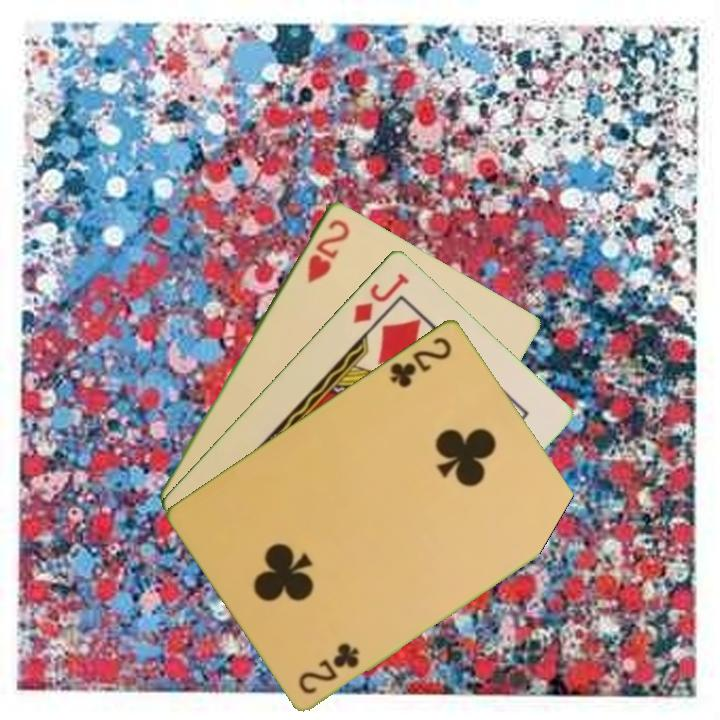2c: (386, 332, 455, 390), (294, 639, 363, 697)
2h: (303, 215, 353, 286)
Jd: (349, 268, 413, 326)
